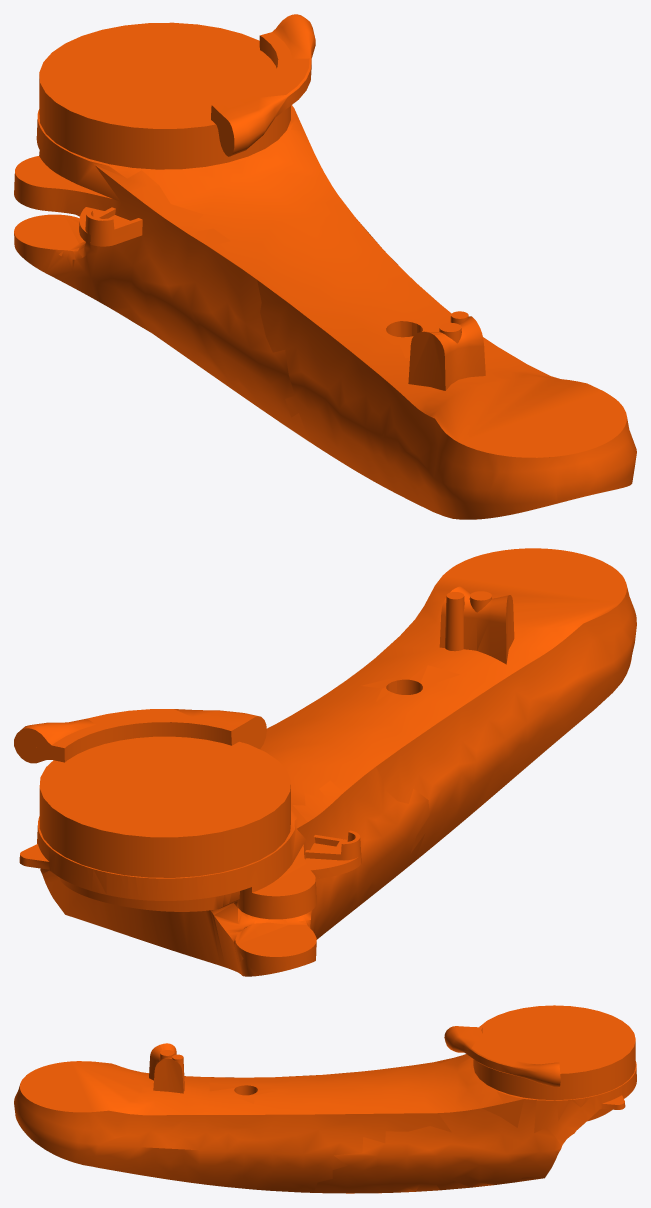
The picture shows the model from 3 angles, top to bottom: view 1: azimuth 30°, elevation 25°; view 2: azimuth 150°, elevation 25°; view 3: azimuth 270°, elevation 25°; orthographic projection. The views are drawn at different scales.
Parts seen in each view (by area): view 1: prd00000007_oNWWNOk+++++3++-ID+HN_explode_1; view 2: prd00000007_oNWWNOk+++++3++-ID+HN_explode_1; view 3: prd00000007_oNWWNOk+++++3++-ID+HN_explode_1.
Part boxes in pixels (bbox=[...]): prd00000007_oNWWNOk+++++3++-ID+HN_explode_1: bbox=[14, 14, 636, 519]; prd00000007_oNWWNOk+++++3++-ID+HN_explode_1: bbox=[14, 548, 636, 976]; prd00000007_oNWWNOk+++++3++-ID+HN_explode_1: bbox=[14, 1005, 636, 1193].
Size of the model in its own units: 0.5304 by 0.4222 by 1.51.
